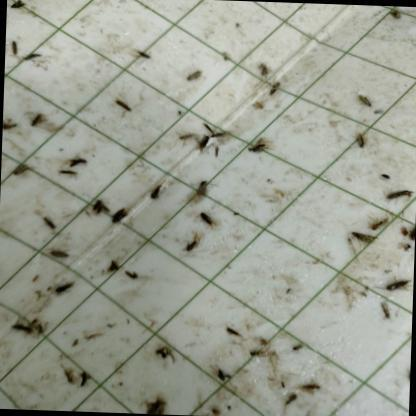prays_oleae: (204, 116, 232, 150), (352, 226, 382, 256), (28, 102, 51, 140), (353, 78, 375, 115), (10, 314, 37, 344), (153, 340, 175, 376), (145, 179, 166, 208), (122, 260, 141, 292), (192, 176, 214, 202), (12, 162, 36, 184), (47, 242, 70, 264), (87, 199, 109, 222), (386, 188, 414, 206), (22, 45, 44, 67), (382, 278, 405, 299), (114, 98, 136, 119), (65, 151, 92, 168), (6, 37, 23, 64), (247, 134, 264, 160), (299, 378, 322, 397), (198, 207, 216, 231), (352, 130, 368, 157), (110, 208, 131, 228), (195, 132, 209, 160), (104, 252, 121, 275), (377, 300, 393, 322), (8, 0, 28, 15), (53, 284, 79, 294)
